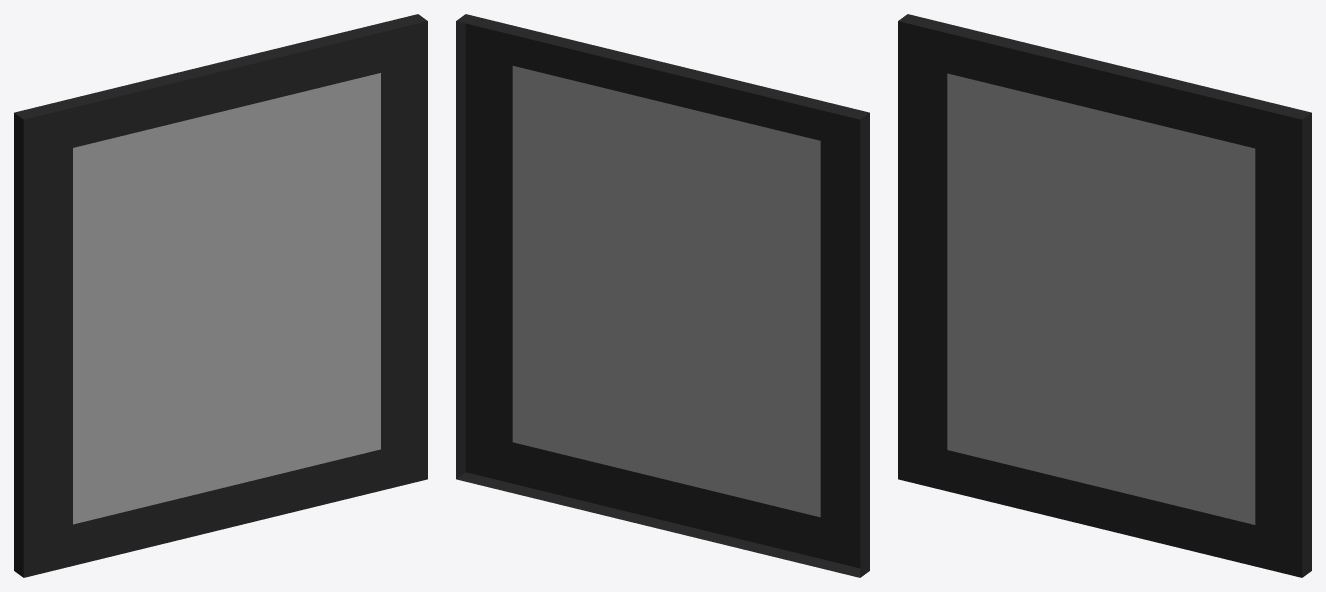
The model's file is Mirror_1A.fbx.
3 views of the same model, side by side, from view 1: azimuth 30°, elevation 25°; view 2: azimuth 150°, elevation 25°; view 3: azimuth 330°, elevation 25° (orthographic).
Parts seen in each view (by area): view 1: pCube561; view 2: pCube561; view 3: pCube561.
Boxes of the visible parts, x1,y1,x2,y2 form: pCube561: (14, 14, 427, 577); pCube561: (456, 14, 869, 577); pCube561: (898, 14, 1311, 577).
Bounding box in the file's own units: 1.2 × 1.3 × 0.05.
2 materials, 1 textured.
